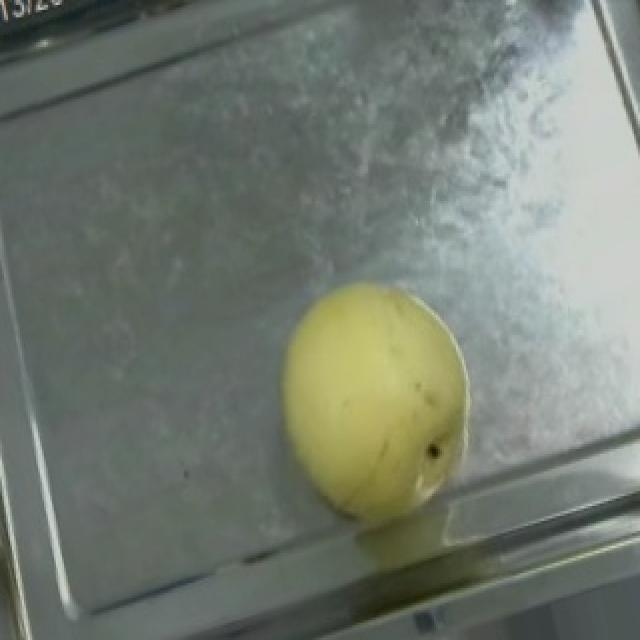Fruit: (236, 248, 516, 563)
